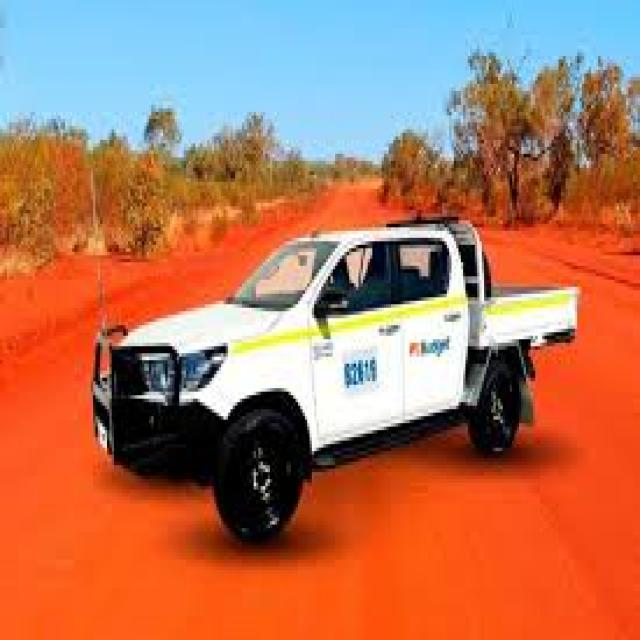light_vehicle: (63, 192, 582, 535)
